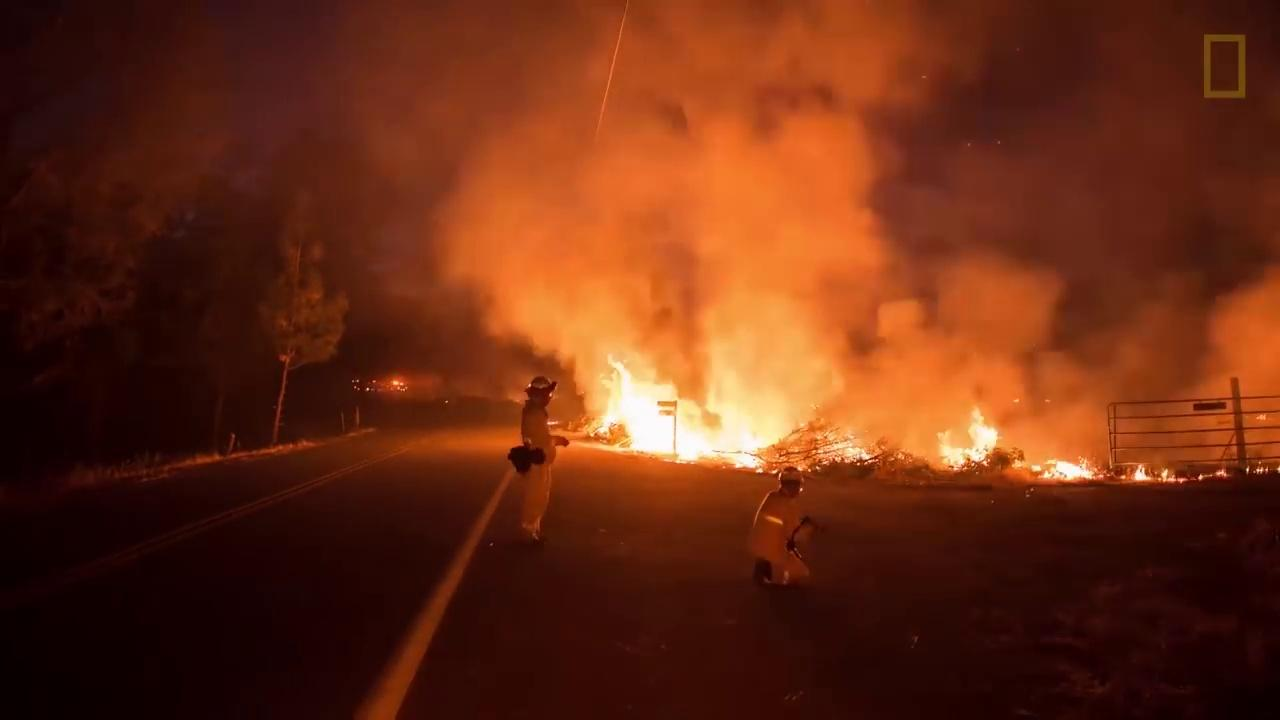Fire: (596, 360, 767, 475), (923, 406, 994, 471), (1038, 458, 1101, 486), (1132, 466, 1229, 484)
